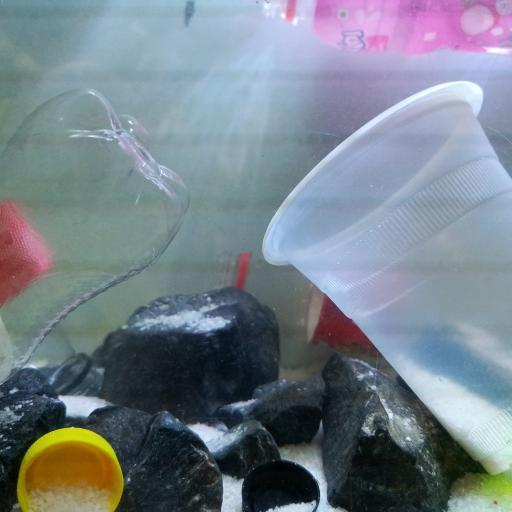bottle_cap: (17, 428, 125, 509), (244, 460, 318, 509)
plastic_bottle: (0, 82, 189, 385), (0, 197, 110, 397), (216, 249, 434, 348), (259, 0, 512, 62)
plastic_cup: (262, 77, 512, 478)
